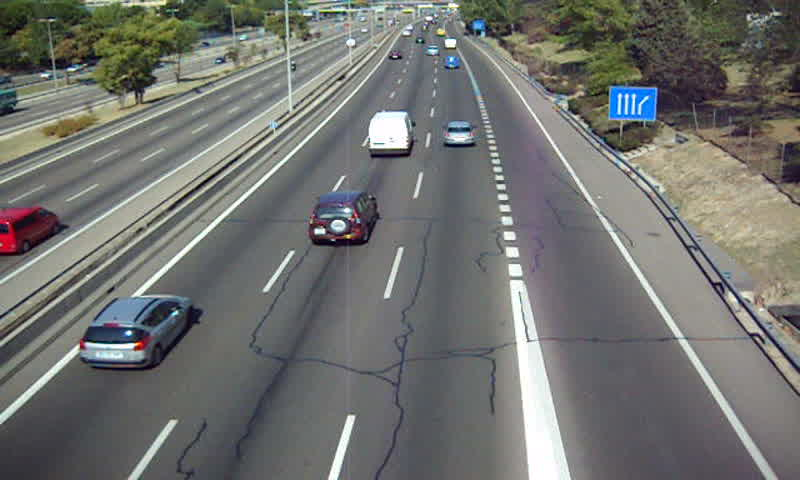car: (78, 294, 193, 370), (308, 190, 377, 246), (442, 123, 476, 146), (444, 54, 462, 71)
van: (368, 111, 414, 157)
